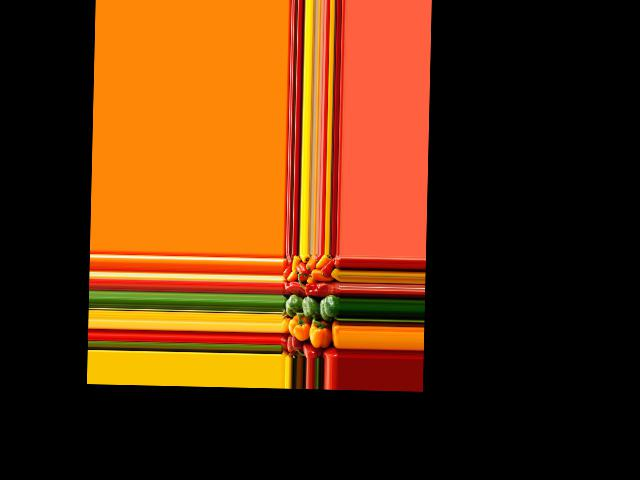bell_pepper: (320, 257, 336, 276)
